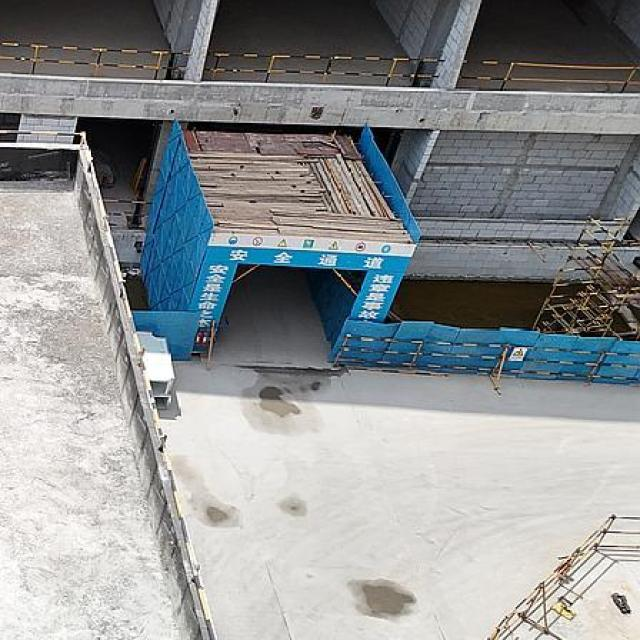edge_guardrail: (0, 128, 217, 640), (204, 52, 446, 87), (0, 40, 193, 80), (457, 59, 640, 92), (103, 198, 153, 218)
